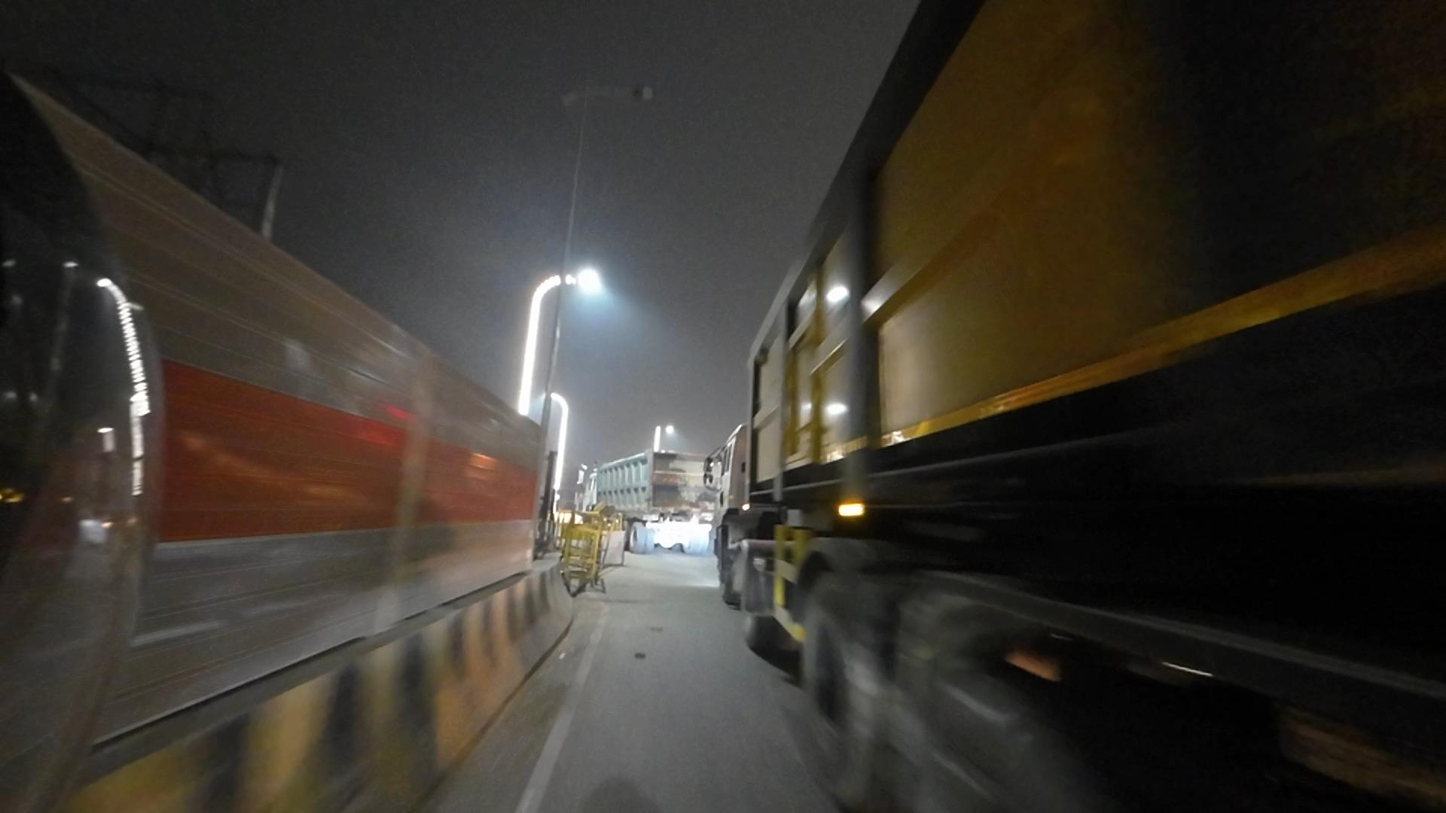streetlight: (582, 82, 657, 106)
